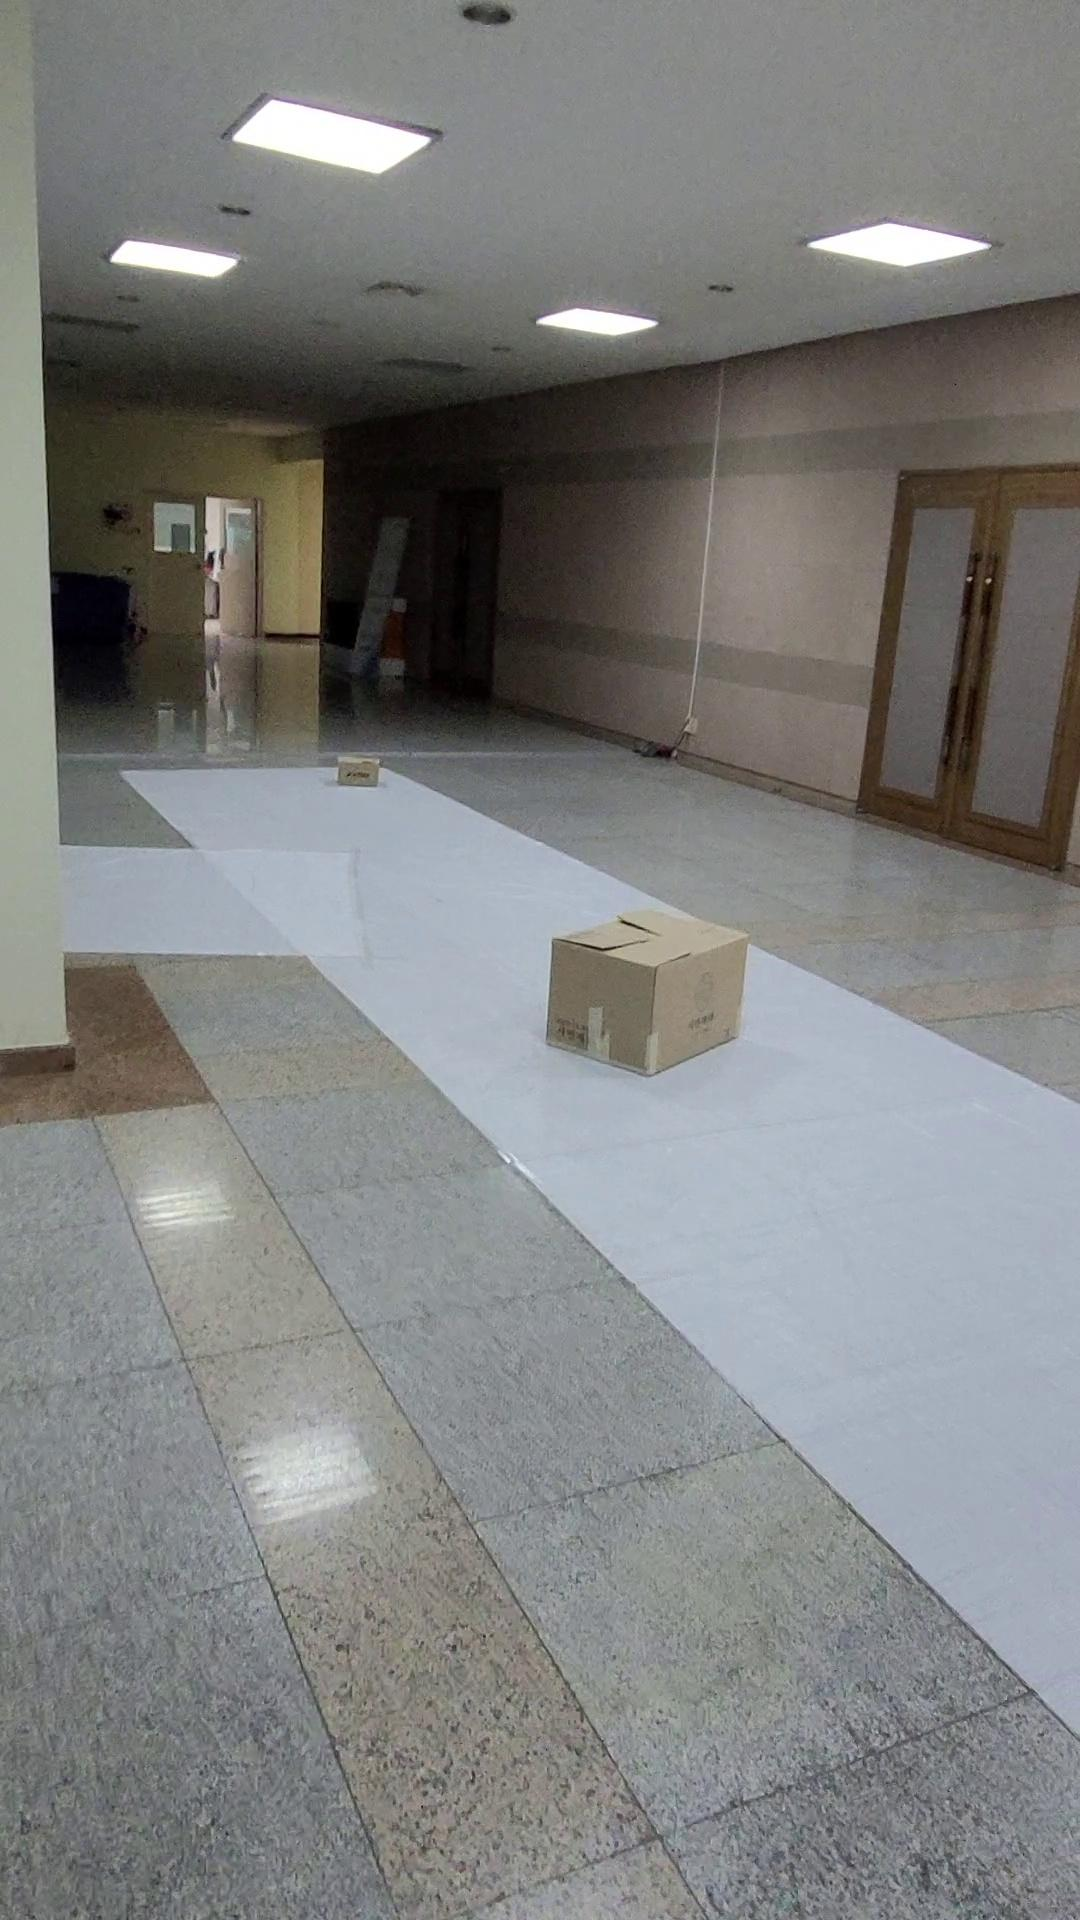Box: (481, 890, 800, 1100), (311, 733, 405, 804)
